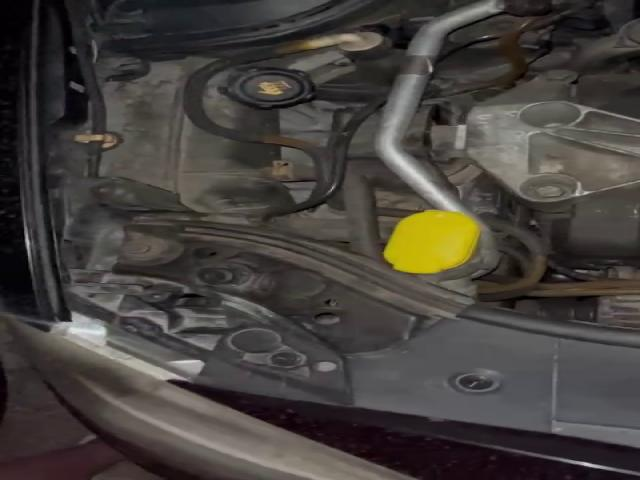antifreeze_tank: (102, 57, 293, 217), (203, 66, 316, 135)
